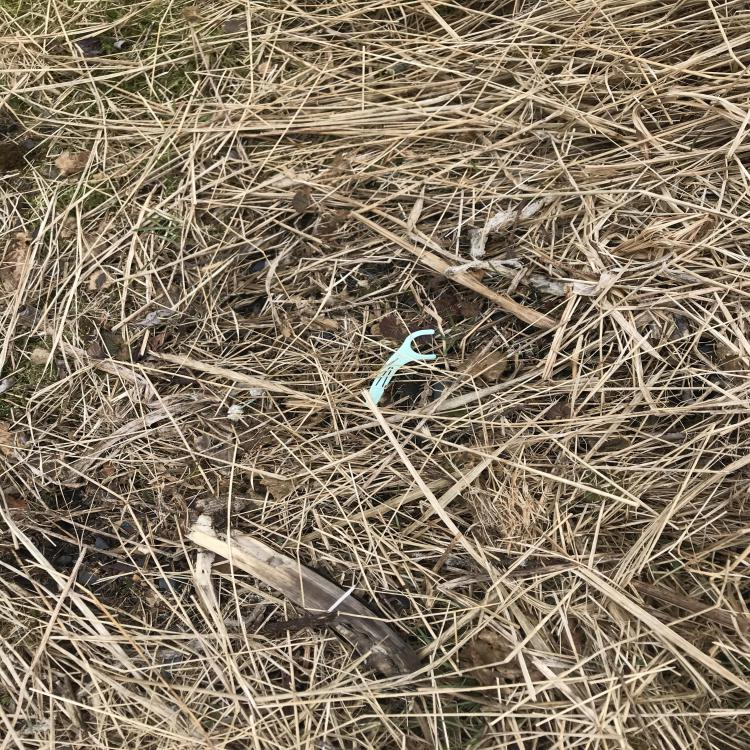Other plastic wrapper: (366, 329, 436, 405)
Styrofoam piece: (228, 405, 244, 421), (249, 390, 263, 396)
